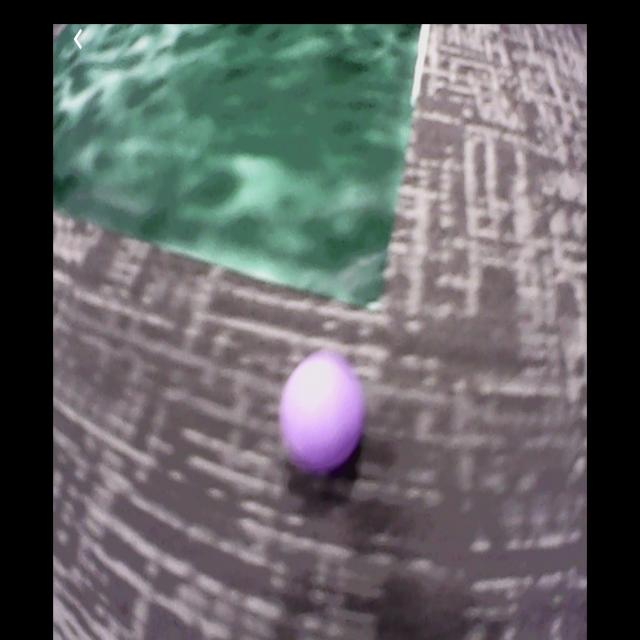ball: (284, 354, 367, 472)
